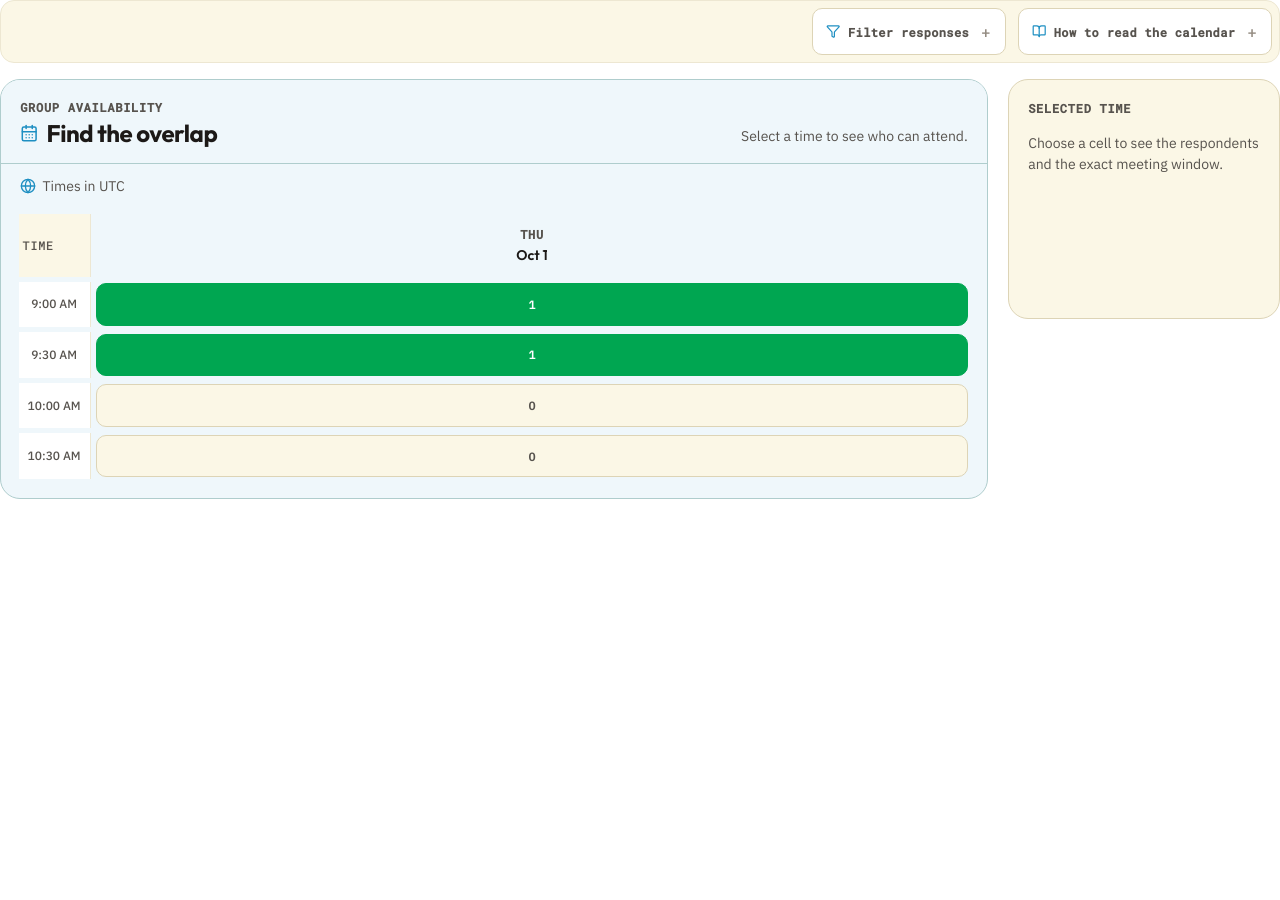
Test: HeatmapGrid finalization control › keeps the only finalization CTA in a dock after the main layout with its exact window summary
Click the button with id "slot-2026-10-01-09".
click(532, 304)  # box [96,283,968,326]
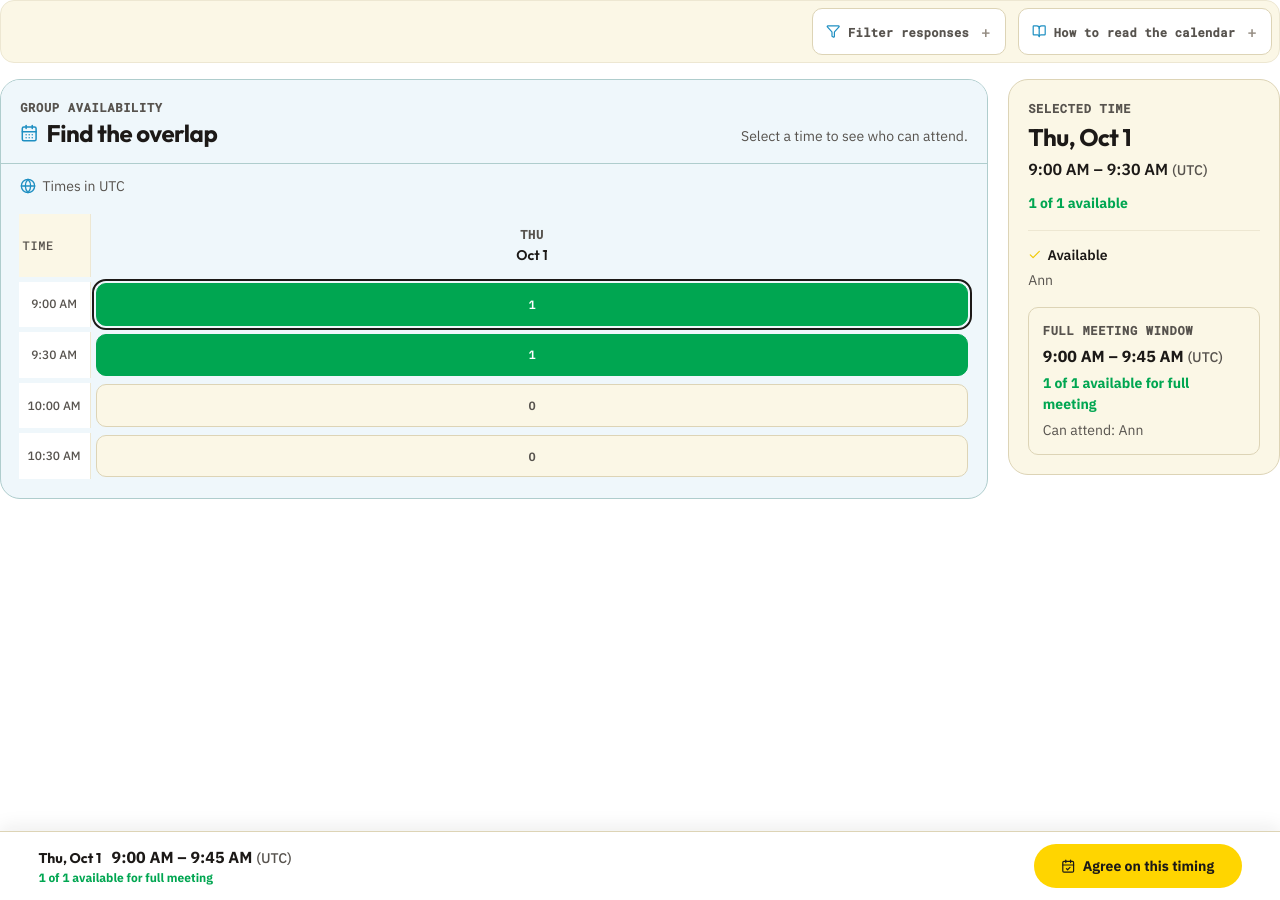
Now the element named "Finalize selected timing" is shown, box [0,831,1279,899]
Now the text "Thu, Oct 1" is shown, box [38,848,101,869]
Now the 2nd element showing "9:00 AM – 9:45 AM (UTC)" is shown, box [112,845,292,869]
